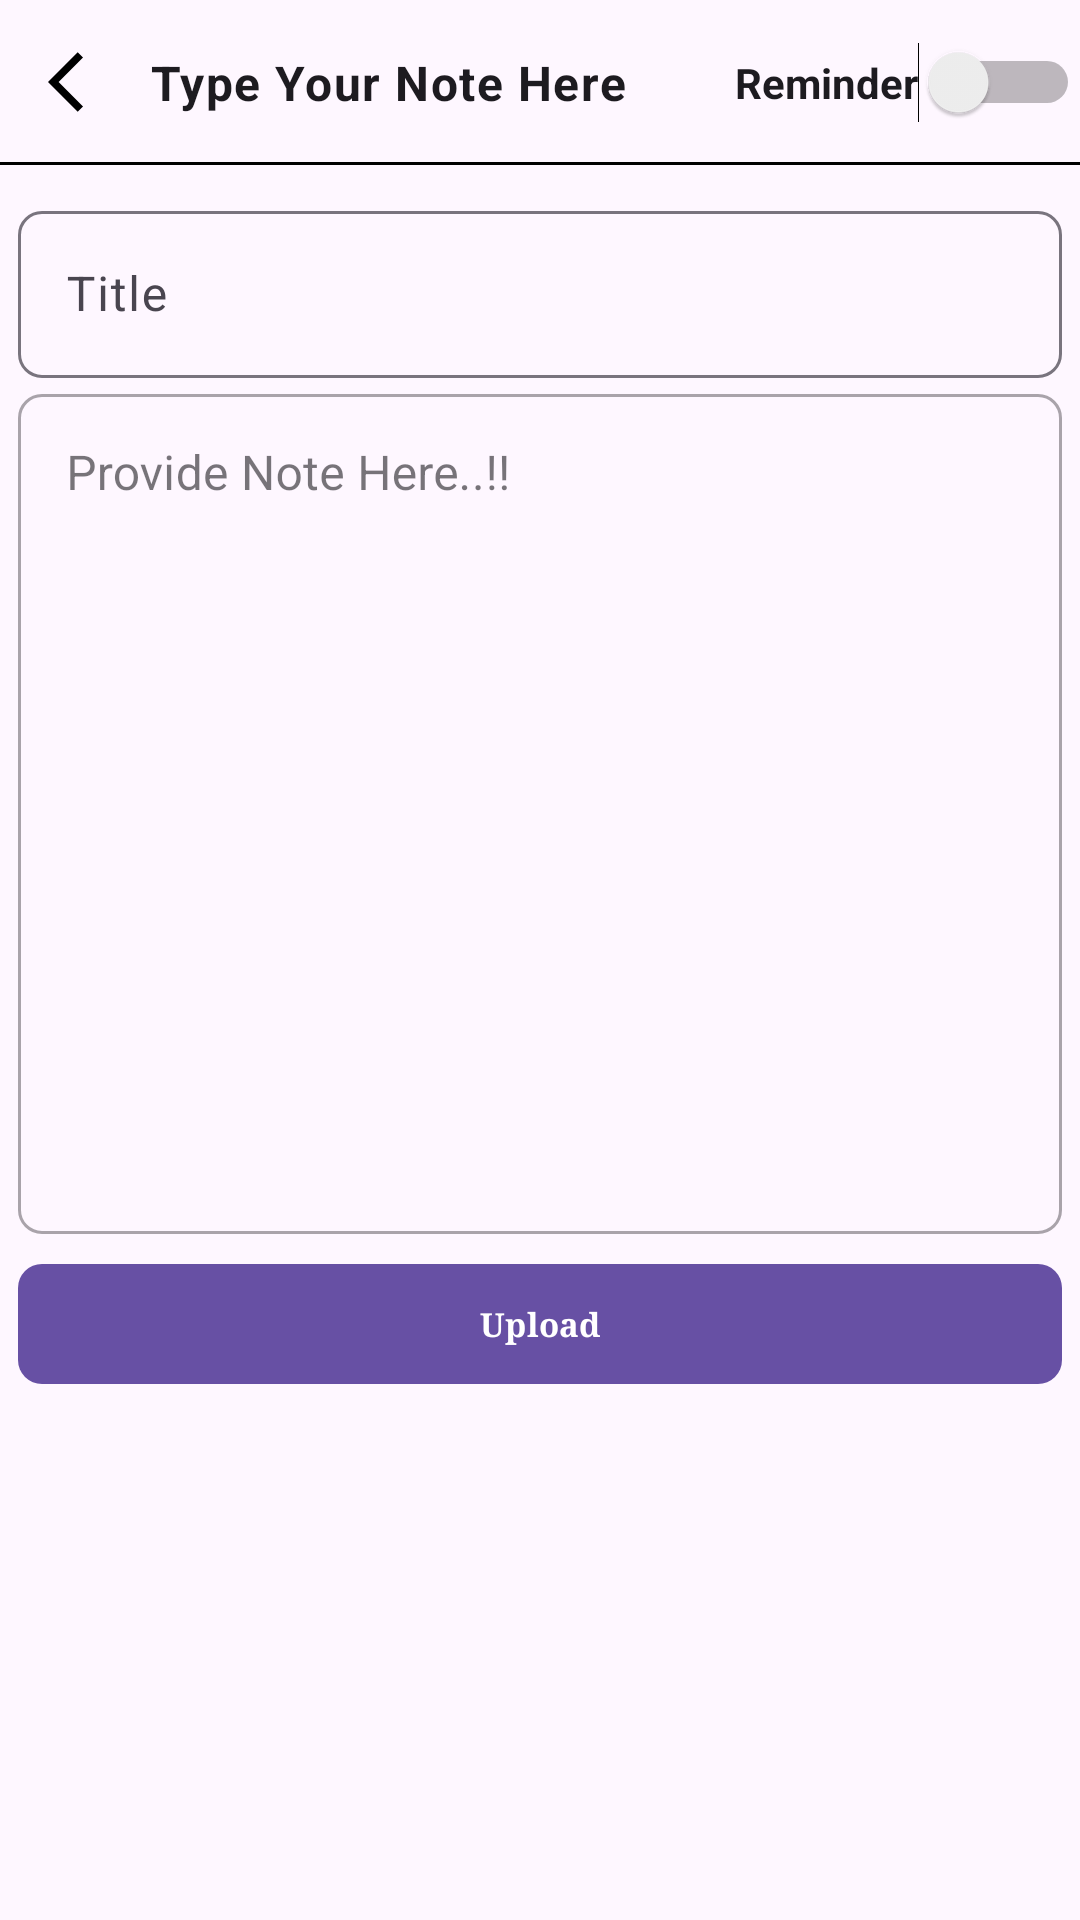

Locate icon controls on the screen. Image size 1080w x 1920h, boxes as (x1, y1, x2, y2).
arrow back: (48, 52, 83, 112)
